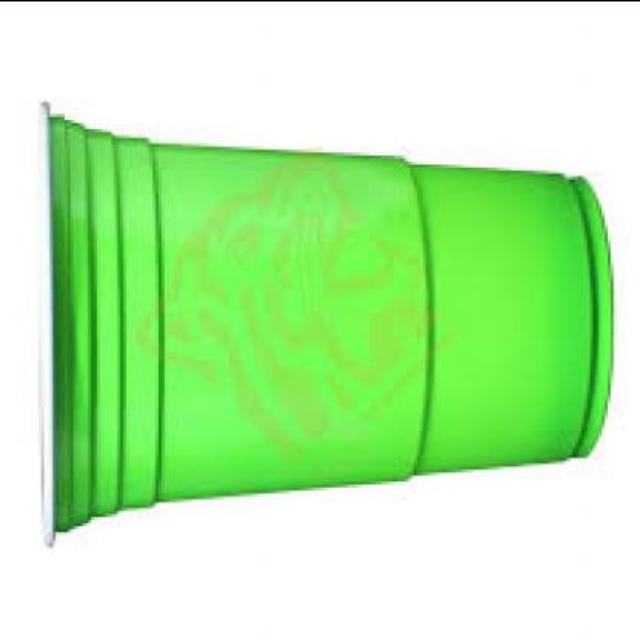plastic_cup: (36, 98, 614, 548)
